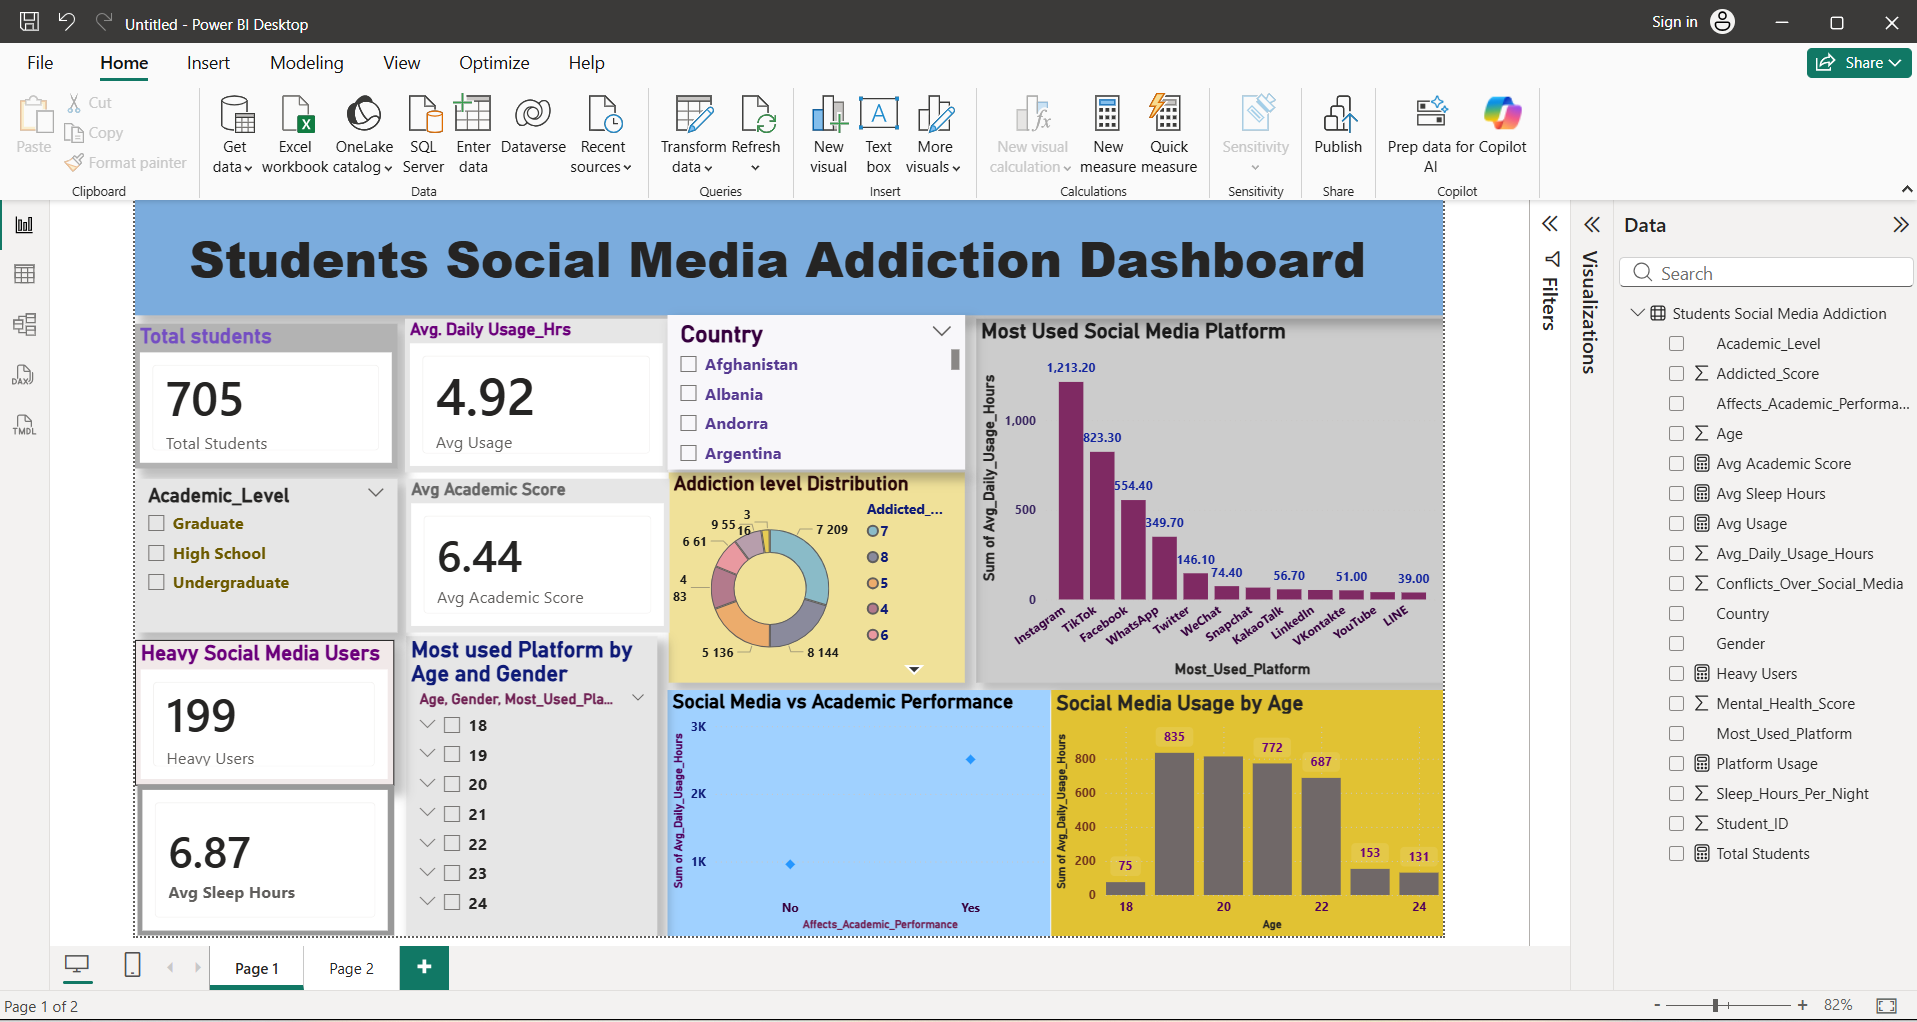

Layout of this report page (visuals, bound fields, positions):
{"tool":"powerbi","page":{"name":"Page 1","canvas":[1280,720],"ordinal":0},"visuals":[{"type":"clusteredColumnChart","title":"Most Used Social Media Platform","fields":{"Category":["Students Social Media Addiction.Most_Used_Platform"],"Y":["Sum(Students Social Media Addiction.Avg_Daily_Usage_Hours)"]},"box":[822.5,116.4,457.8,355.6],"z":0},{"type":"textbox","box":[0,0,1280.3,112.7],"z":6},{"type":"donutChart","title":"Addiction level Distribution","fields":{"Y":["Students Social Media Addiction.Total Students"],"Category":["Students Social Media Addiction.Addicted_Score"]},"box":[522.5,266.4,289.7,205.6],"z":7},{"type":"columnChart","title":"Social Media Usage by Age","fields":{"Category":["Students Social Media Addiction.Age"],"Y":["Sum(Students Social Media Addiction.Avg_Daily_Usage_Hours)"]},"box":[896.2,479.8,384.1,240.5],"z":8},{"type":"scatterChart","title":"Social Media vs Academic Performance","fields":{"Y":["Sum(Students Social Media Addiction.Avg_Daily_Usage_Hours)"],"X":["Students Social Media Addiction.Affects_Academic_Performance"]},"box":[520.9,479.4,374.2,240.9],"z":9},{"type":"slicer","title":"Most used Platform by Age and Gender","fields":{"Values":["Students Social Media Addiction.Age","Students Social Media Addiction.Gender","Students Social Media Addiction.Most_Used_Platform"]},"box":[265.4,426.8,245.8,293.5],"z":11},{"type":"cardVisual","title":"Total students","fields":{"Data":["Students Social Media Addiction.Total Students"]},"box":[0,121.1,256.8,141.8],"z":12},{"type":"cardVisual","title":"Avg. Daily Usage_Hrs","fields":{"Data":["Students Social Media Addiction.Avg Usage"]},"box":[263.8,116.4,257.3,150],"z":13},{"type":"slicer","fields":{"Values":["Students Social Media Addiction.Academic_Level"]},"box":[0,272.7,256.8,150.4],"z":14},{"type":"cardVisual","title":"Avg Academic Score","fields":{"Data":["Students Social Media Addiction.Avg Academic Score"]},"box":[265.1,272.9,257.3,150],"z":15},{"type":"slicer","fields":{"Values":["Students Social Media Addiction.Country"]},"box":[521.2,112.5,291,151.3],"z":16},{"type":"cardVisual","title":"Heavy Social Media Users","fields":{"Data":["Students Social Media Addiction.Heavy Users"]},"box":[0,430.6,253.5,142.3],"z":17},{"type":"cardVisual","fields":{"Data":["Students Social Media Addiction.Avg Sleep Hours"]},"box":[2.6,572.9,250.9,147.4],"z":18}]}

Visuals, with their boxes on the page's 1280x720 design canvas (x1, y1, x2, y2). These are canvas units, not pixel positions in the 1917x1022 screenshot, which may show the page scaled, cropped or inside an application window:
"Most Used Social Media Platform" clusteredColumnChart: (x1=822, y1=116, x2=1280, y2=472)
textbox: (x1=0, y1=0, x2=1280, y2=113)
"Addiction level Distribution" donutChart: (x1=522, y1=266, x2=812, y2=472)
"Social Media Usage by Age" columnChart: (x1=896, y1=480, x2=1280, y2=720)
"Social Media vs Academic Performance" scatterChart: (x1=521, y1=479, x2=895, y2=720)
"Most used Platform by Age and Gender" slicer: (x1=265, y1=427, x2=511, y2=720)
"Total students" cardVisual: (x1=0, y1=121, x2=257, y2=263)
"Avg. Daily Usage_Hrs" cardVisual: (x1=264, y1=116, x2=521, y2=266)
slicer - Students Social Media Addiction.Academic_Level: (x1=0, y1=273, x2=257, y2=423)
"Avg Academic Score" cardVisual: (x1=265, y1=273, x2=522, y2=423)
slicer - Students Social Media Addiction.Country: (x1=521, y1=112, x2=812, y2=264)
"Heavy Social Media Users" cardVisual: (x1=0, y1=431, x2=254, y2=573)
cardVisual - Students Social Media Addiction.Avg Sleep Hours: (x1=3, y1=573, x2=254, y2=720)
